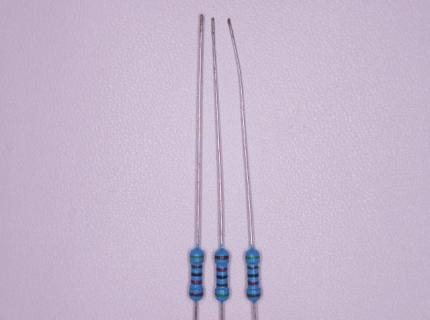Black band: (217, 275, 228, 279), (247, 274, 259, 277), (191, 273, 202, 276)
Brown band: (215, 255, 229, 260), (189, 292, 203, 297), (216, 282, 228, 287), (247, 293, 261, 297), (247, 266, 258, 270), (191, 265, 202, 268)
Green band: (190, 255, 204, 258), (215, 294, 229, 297), (246, 256, 260, 259)
Red band: (248, 280, 259, 285), (191, 280, 201, 284), (217, 268, 228, 271)
